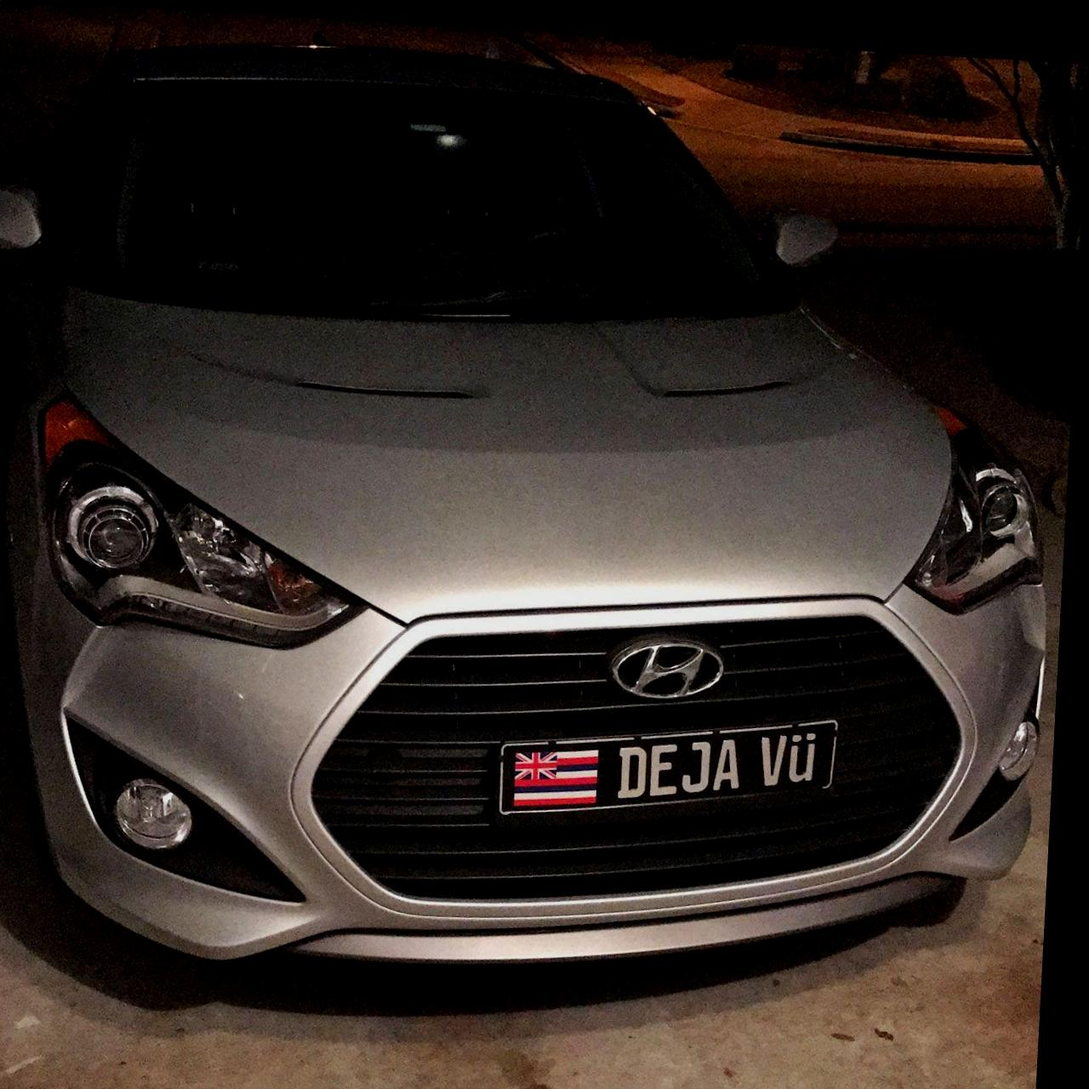License_Plate: (477, 708, 874, 847)
